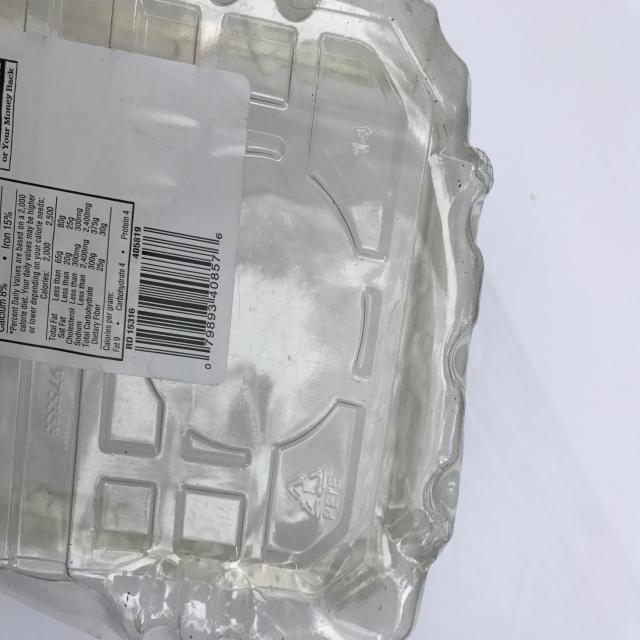Plastic: (0, 0, 504, 640)
